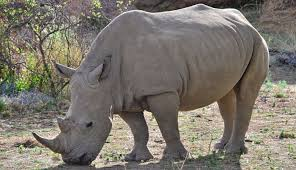Rhinoceros: (16, 3, 273, 168)
